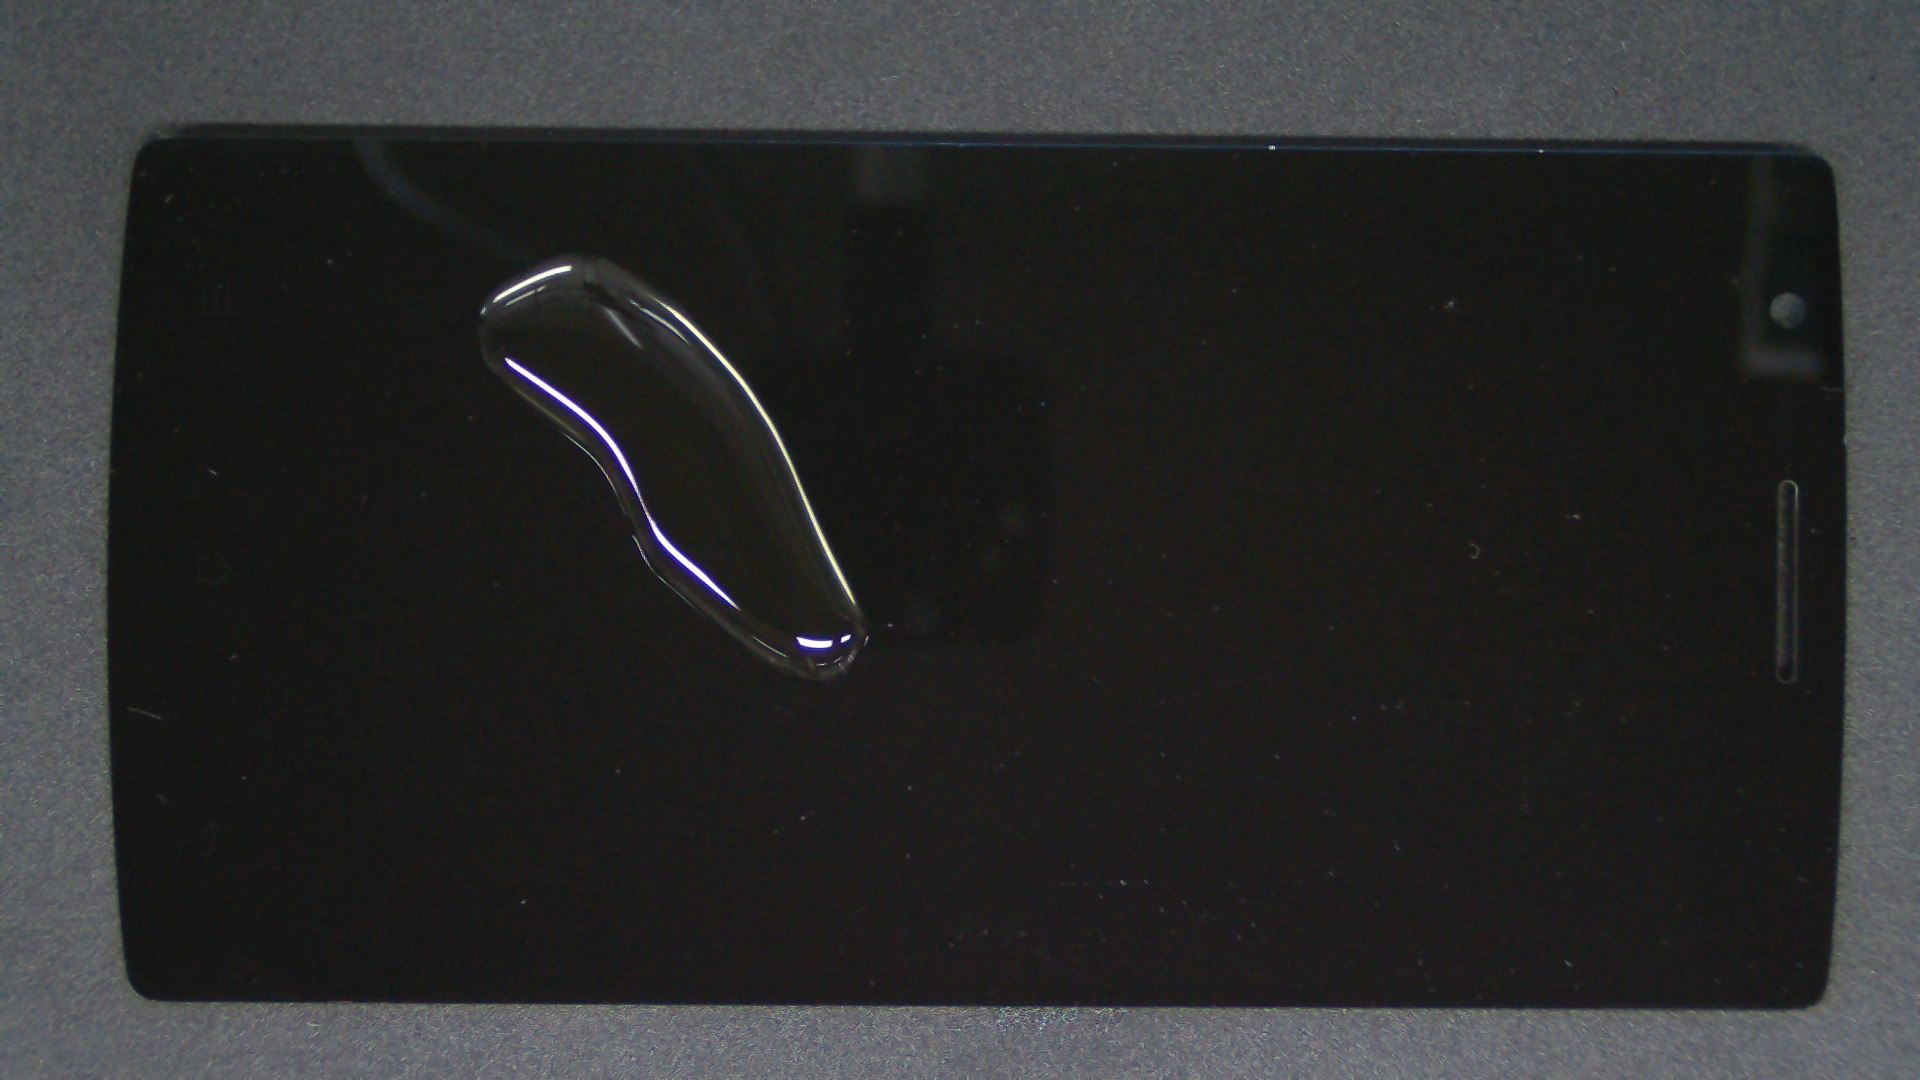defect: (477, 253, 866, 679)
